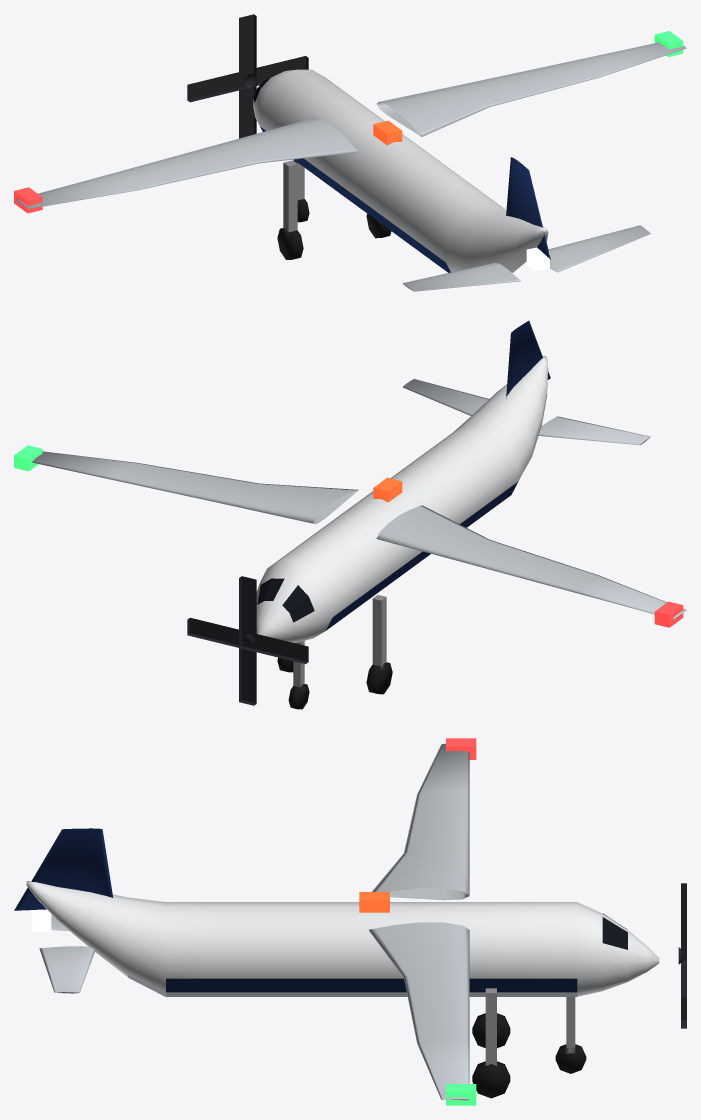
The picture shows the model from 3 angles, top to bottom: view 1: azimuth 30°, elevation 25°; view 2: azimuth 150°, elevation 25°; view 3: azimuth 270°, elevation 25°; orthographic projection. The views are drawn at different scales.
Parts seen in each view (by area): view 1: c172_lod1_white, c172_lod1_wing, c172_lod1_dark, c172_lod1_blue, c172_lod1_gear_metal, c172_lod1_gear_tyre, c172_lod1_beacon, c172_lod1_nav_red, c172_lod1_nav_white, c172_lod1_nav_green; view 2: c172_lod1_white, c172_lod1_wing, c172_lod1_dark, c172_lod1_blue, c172_lod1_gear_metal, c172_lod1_gear_tyre, c172_lod1_glass; view 3: c172_lod1_white, c172_lod1_wing, c172_lod1_blue, c172_lod1_gear_tyre, c172_lod1_belly, c172_lod1_gear_metal, c172_lod1_dark, c172_lod1_beacon, c172_lod1_nav_green, c172_lod1_glass.
Part boxes in pixels (<box>): c172_lod1_white: <box>253,69,548,272</box>; c172_lod1_wing: <box>16,42,686,291</box>; c172_lod1_dark: <box>187,14,308,138</box>; c172_lod1_blue: <box>260,126,550,272</box>; c172_lod1_gear_metal: <box>283,159,304,235</box>; c172_lod1_gear_tyre: <box>277,199,391,259</box>; c172_lod1_beacon: <box>373,120,402,145</box>; c172_lod1_nav_red: <box>14,187,42,213</box>; c172_lod1_nav_white: <box>526,247,549,271</box>; c172_lod1_nav_green: <box>654,31,683,56</box>; c172_lod1_white: <box>256,355,548,642</box>; c172_lod1_wing: <box>32,379,686,619</box>; c172_lod1_dark: <box>187,576,308,705</box>; c172_lod1_blue: <box>325,320,550,630</box>; c172_lod1_gear_metal: <box>293,595,386,689</box>; c172_lod1_gear_tyre: <box>277,657,392,709</box>; c172_lod1_glass: <box>257,578,314,622</box>; c172_lod1_white: <box>26,881,659,996</box>; c172_lod1_wing: <box>39,743,469,1100</box>; c172_lod1_blue: <box>14,828,577,992</box>; c172_lod1_gear_tyre: <box>472,1013,586,1098</box>; c172_lod1_belly: <box>128,975,577,996</box>; c172_lod1_gear_metal: <box>485,988,575,1065</box>; c172_lod1_dark: <box>678,883,686,1028</box>; c172_lod1_beacon: <box>359,892,389,912</box>; c172_lod1_nav_green: <box>446,1084,476,1105</box>; c172_lod1_glass: <box>602,913,627,949</box>.
Size of the model in its own units: 11 by 3.51 by 8.81.
